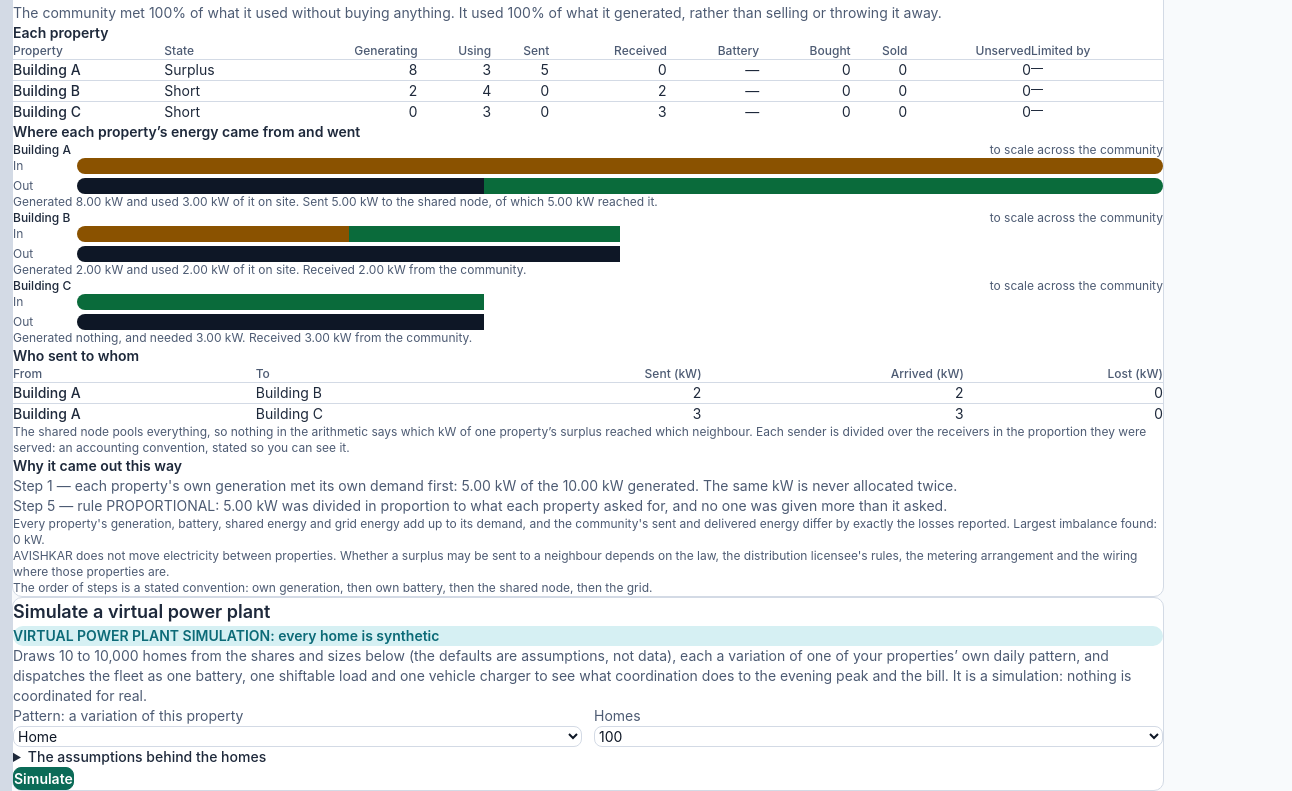
Test: CommunityView: the virtual power plant › says what the pattern property lacks, with a link to fix it
The width and height of the screenshot is (1292, 791).
(page scrolled)
Expected: the form named "Simulate a virtual power plant" is shown, [13,706,1163,790]
Click the button "Simulate" at x=43, y=779, box [13,767,74,790]
(page scrolled)
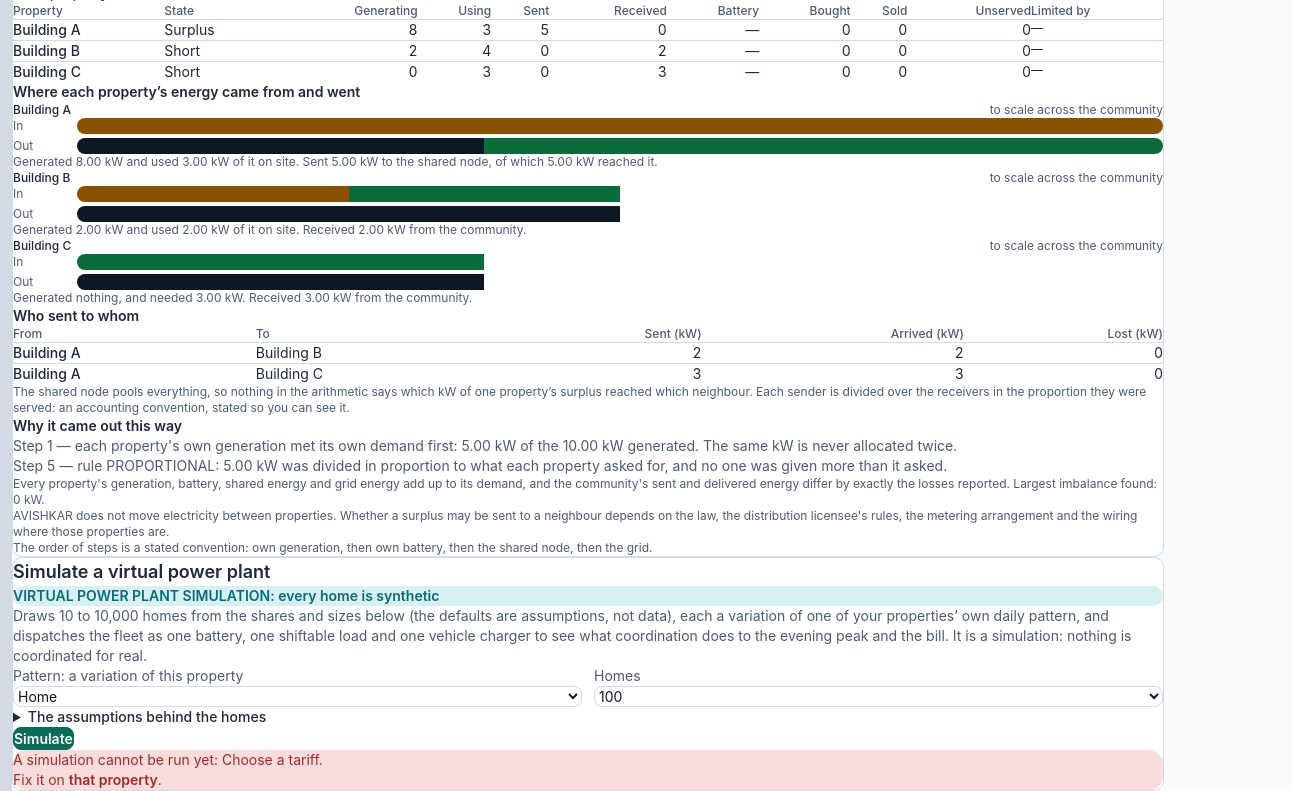
Result: the message shows "A simulation cannot be run yet" at [13,751,323,768]
